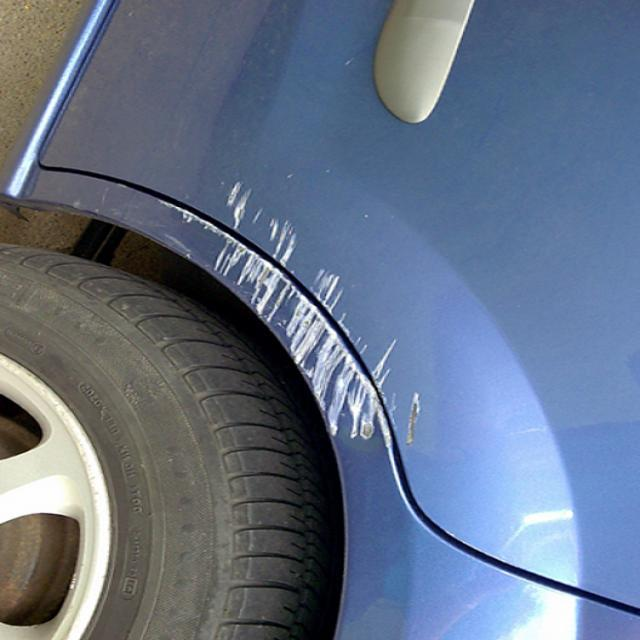scratch: (155, 160, 434, 446)
